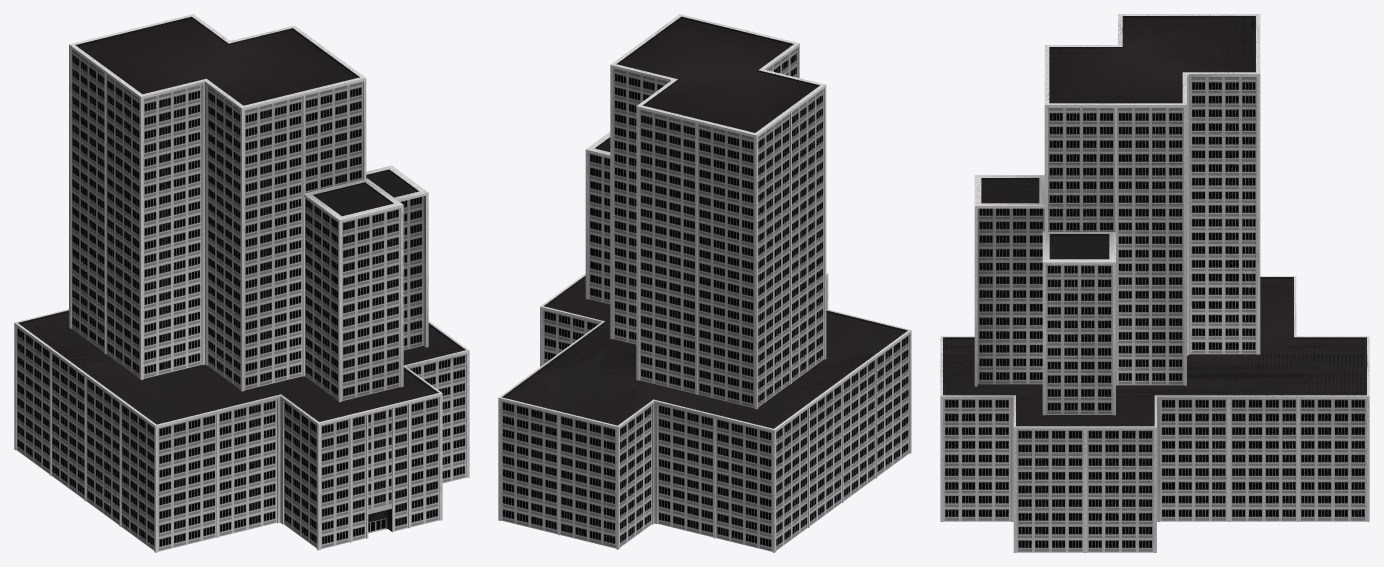
Rendered from o_block.glb.
3 renders of one model, left to right at view 1: azimuth 30°, elevation 25°; view 2: azimuth 150°, elevation 25°; view 3: azimuth 270°, elevation 25°, orthographic. The views are drawn at different scales.
Parts seen in each view (by area): view 1: body|main, body|Rooftop_Color, body|Color; view 2: body|main, body|Rooftop_Color, body|Color; view 3: body|main, body|Rooftop_Color, body|Color.
Part boxes in pixels (left/top/right/bottom): body|main: left=16, top=49, right=466, bottom=551; body|Rooftop_Color: left=18, top=16, right=465, bottom=532; body|Color: left=14, top=14, right=469, bottom=552; body|main: left=501, top=48, right=909, bottom=551; body|Rooftop_Color: left=502, top=16, right=907, bottom=428; body|Color: left=498, top=14, right=911, bottom=552; body|main: left=943, top=76, right=1366, bottom=552; body|Rooftop_Color: left=943, top=16, right=1366, bottom=426; body|Color: left=940, top=14, right=1369, bottom=552.
Size of the model in its own units: 25.6 by 32 by 30.7.
Materials: 4 (2 with a texture image).
